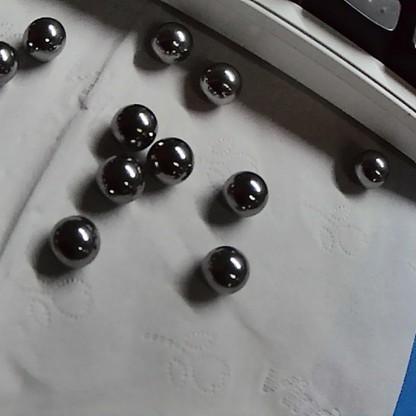ironball: (37, 206, 101, 261), (193, 243, 254, 299), (93, 149, 147, 206), (20, 11, 77, 63), (138, 19, 195, 63), (221, 161, 263, 216), (110, 101, 160, 145), (348, 146, 390, 197), (195, 60, 240, 106), (149, 136, 188, 182), (0, 33, 31, 76)
